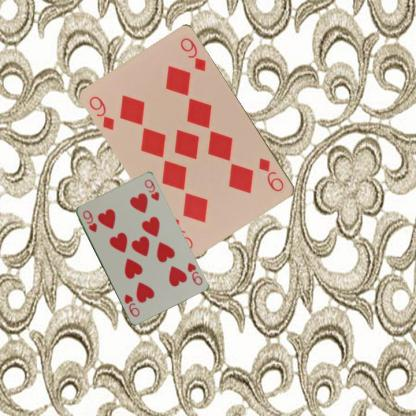9d: (87, 93, 116, 132), (256, 155, 285, 193)
9h: (184, 260, 204, 287), (80, 207, 98, 233)
